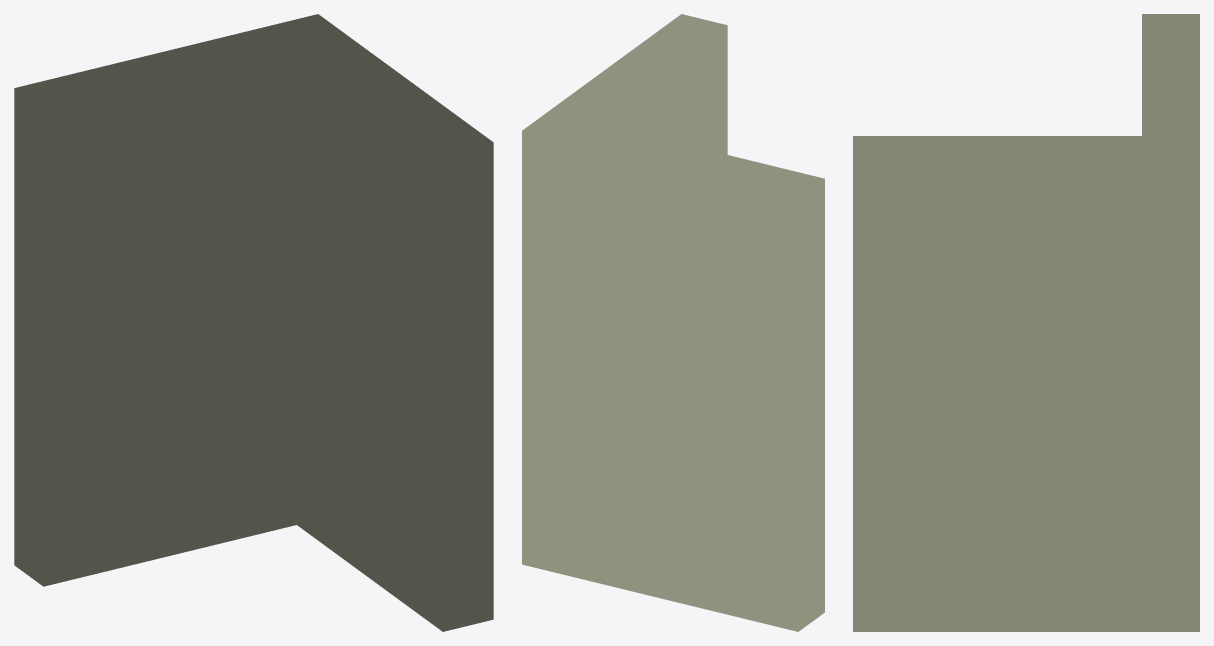
File: corner.dae
The picture shows the model from 3 angles, left to right: view 1: azimuth 30°, elevation 25°; view 2: azimuth 150°, elevation 25°; view 3: azimuth 270°, elevation 25°; orthographic projection. The views are drawn at different scales.
Parts seen in each view (by area): view 1: Cube41_copy42-0; view 2: Cube41_copy42-0; view 3: Cube41_copy42-0.
Part boxes in pixels (bbox=[...]): Cube41_copy42-0: bbox=[14, 14, 493, 631]; Cube41_copy42-0: bbox=[522, 14, 824, 631]; Cube41_copy42-0: bbox=[853, 14, 1199, 631].
Size of the model in its own units: 60.69 by 91.03 by 60.69.
